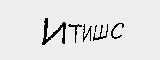И: (40, 16, 66, 49), (81, 24, 93, 43)
С: (110, 19, 126, 43)
Т: (69, 22, 81, 43)
Ш: (92, 21, 108, 41)
